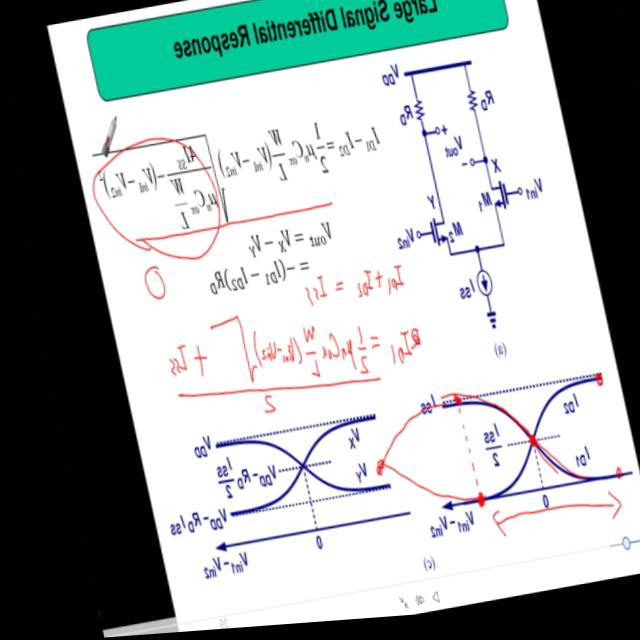panseo: (137, 253, 434, 452)
